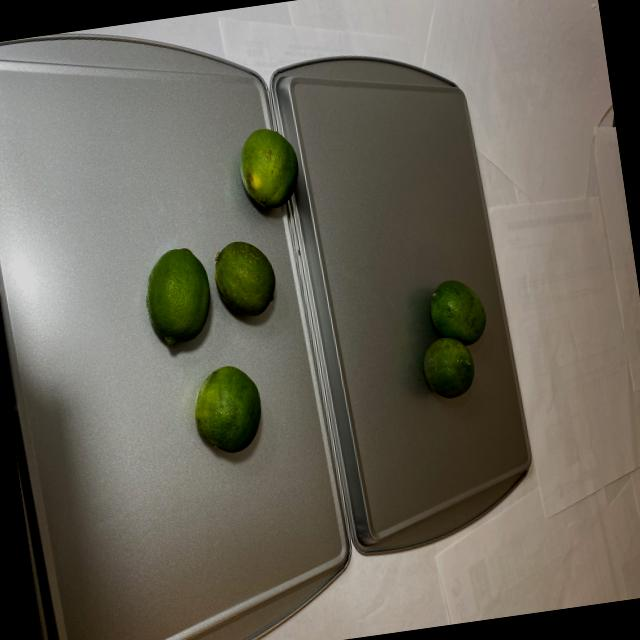lemon: (112, 124, 340, 468), (410, 274, 498, 398)
